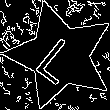L_NE: (31, 26, 89, 85)
